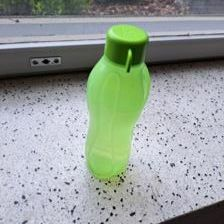bottle: (80, 23, 154, 180)
